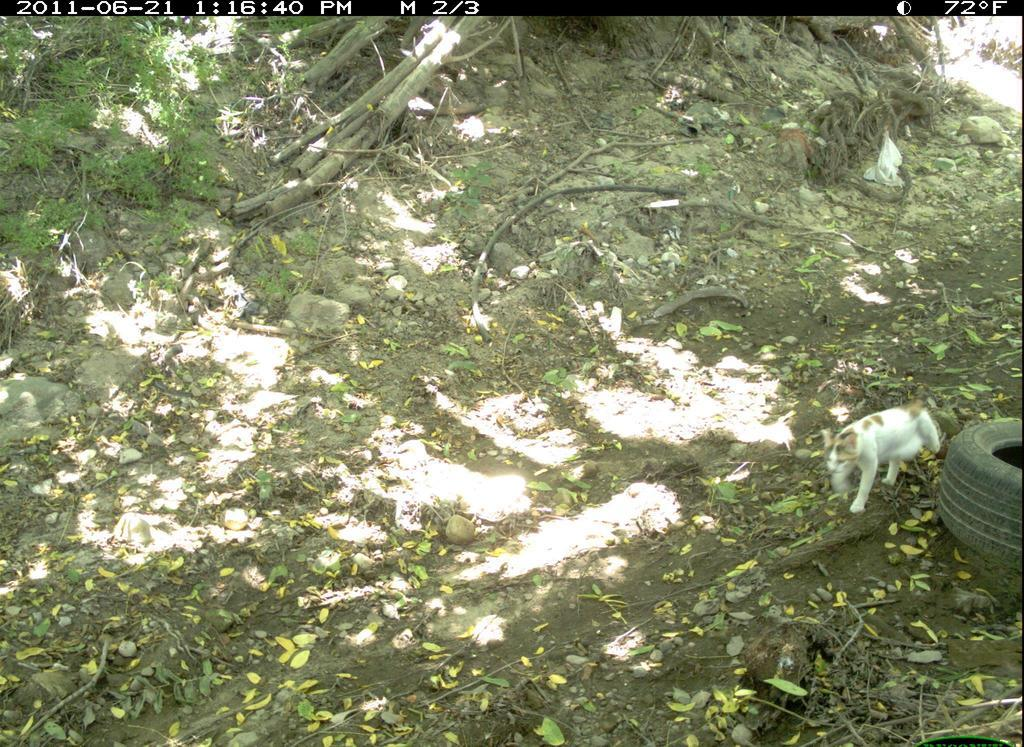cat: (817, 401, 946, 518)
